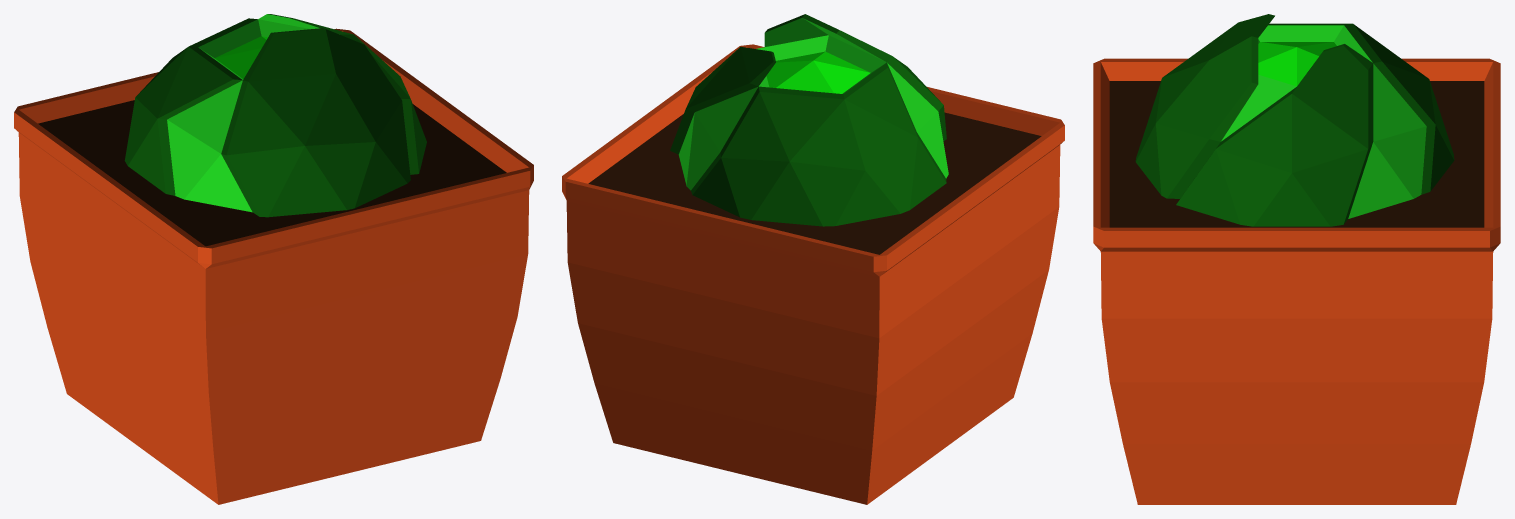
The model's file is Plant Pot 1.fbx.
3 views of the same model, side by side, from view 1: azimuth 30°, elevation 25°; view 2: azimuth 150°, elevation 25°; view 3: azimuth 270°, elevation 25° (orthographic). The views are drawn at different scales.
Visible parts, largest first — view 1: Node 0; view 2: Node 0; view 3: Node 0.
Boxes of the visible parts, <box> form: Node 0: <box>14,14,533,504</box>; Node 0: <box>562,14,1064,504</box>; Node 0: <box>1093,14,1500,504</box>.
Bounding box in the file's own units: 0.1966 × 0.222 × 0.1966.
